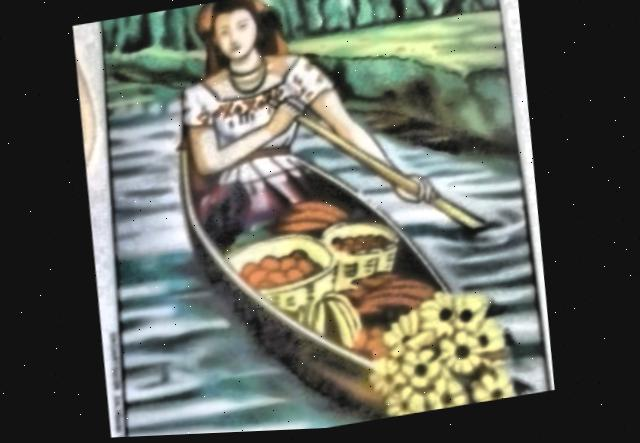La Chalupa: (100, 0, 552, 438)
